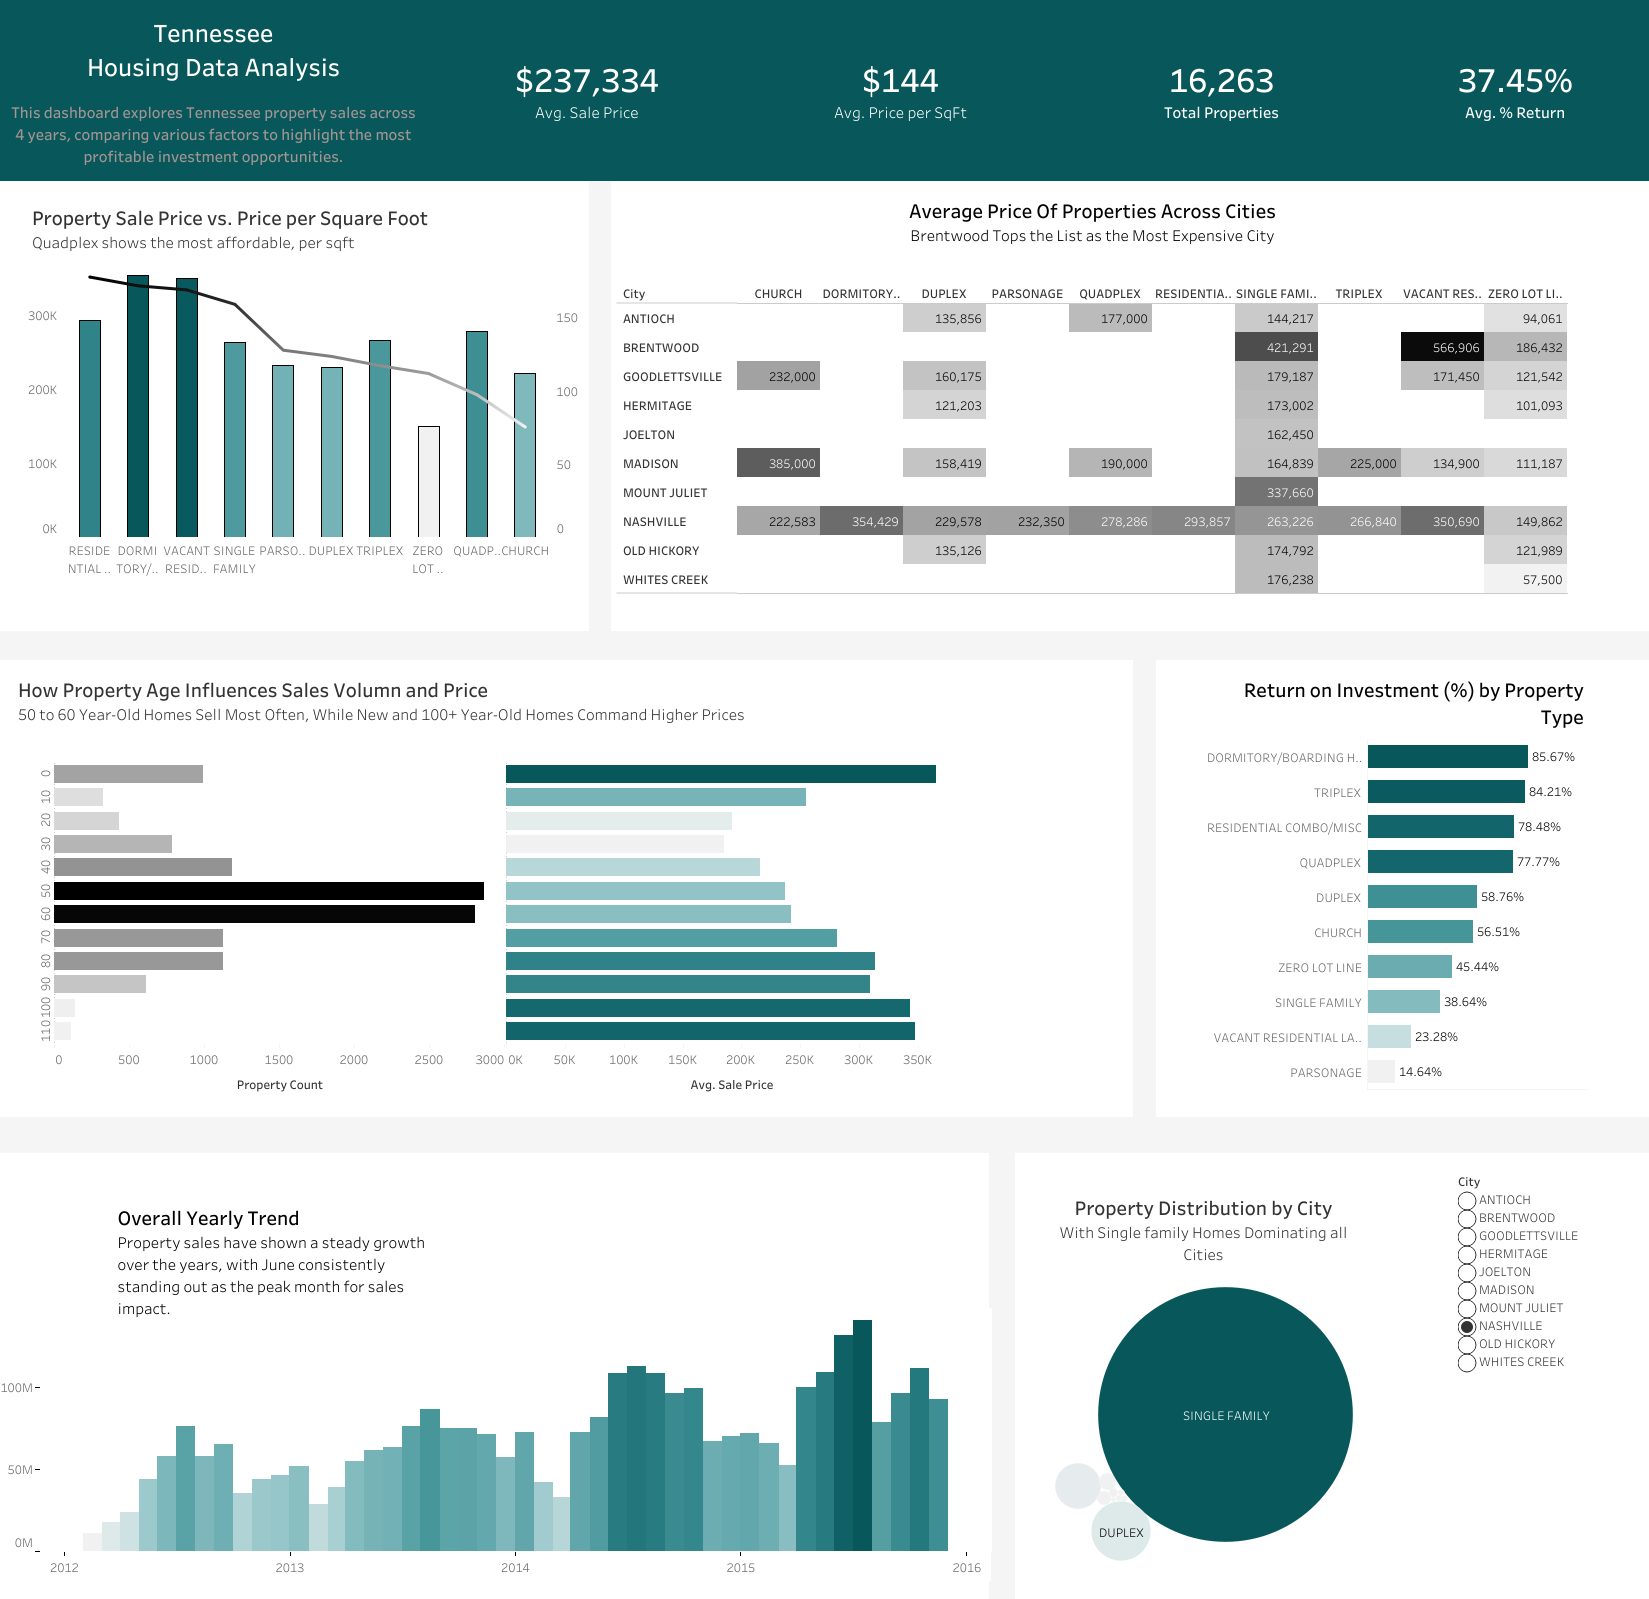

What the dashboard file says about the page in this screenshot:
{"tool":"tableau","page":{"name":"Tennessee Housing Data Analysis","canvas":[1000,1000],"units":"permille","ordinal":0},"visuals":[{"type":"text","box":[0,0,258.8,113.1]},{"type":"worksheet","title":"Sheet 10","mark":"Automatic","box":[258.8,0,384.9,113.1]},{"type":"worksheet","title":"Sheet 9","mark":"Automatic","box":[643.6,0,193.9,113.1]},{"type":"worksheet","title":"Sheet 11","mark":"Automatic","box":[837.6,0,162.4,113.1]},{"type":"title","box":[4.9,5,990.3,26.2]},{"type":"blank","box":[357,113.1,13.3,285]},{"type":"worksheet","title":"Average Price Of Properties Across Cities","mark":"Square","rows":["City"],"cols":["Land Use"],"box":[373.9,119.4,602.4,251.9]},{"type":"worksheet","title":"Property Sale Price vs. Price per Square Foot","mark":"Automatic","rows":["Sale Price","Price_per_SqFt"],"cols":["Land Use"],"box":[17,123.8,338.2,236.9]},{"type":"blank","box":[686.7,398.1,13.9,322.5]},{"type":"worksheet","title":"How Property Age Influences Sales Volumn and Price","mark":"Bar","rows":["Property Age (bin)"],"cols":["nhdc_df_houses_only_cleaned.csv_ABC2B269E5814F31BE5C74FBB430","Sale Price"],"box":[8.5,418.8,572.7,268.8]},{"type":"worksheet","title":"ROI (%)","mark":"Automatic","rows":["Land Use"],"cols":["Calculation_1055812677586268160"],"box":[731.5,418.8,230.9,270]},{"type":"filter","title":"Property Distribution by City","param":"[federated.12q3ktz17dsve31extktb1yelzef].[none:City:nk]","box":[881.2,729.5,98.2,158.1]},{"type":"worksheet","title":"Property Distribution by City","mark":"Circle","box":[638.8,742.5,223.6,240.6]},{"type":"text","box":[69.7,745,195.2,86.9]},{"type":"worksheet","title":"Sales","mark":"Bar","rows":["Sale Price"],"cols":["Sale Date"],"box":[0,807.9,600.6,180]}]}

Visuals, with their boxes on the dashboard's canvas, which has no fixed pixel size, in thousandths of its width and height (x1, y1, x2, y2). These are canvas units, not pixel positions in the 1649x1599 screenshot, which may show the page scaled, cropped or inside an application window:
text: [0,0,259,113]
"Sheet 10" worksheet: [259,0,644,113]
"Sheet 9" worksheet: [644,0,838,113]
"Sheet 11" worksheet: [838,0,1000,113]
title: [5,5,995,31]
blank: [357,113,370,398]
"Average Price Of Properties Across Cities" worksheet (Square marks): [374,119,976,371]
"Property Sale Price vs. Price per Square Foot" worksheet: [17,124,355,361]
blank: [687,398,701,721]
"How Property Age Influences Sales Volumn and Price" worksheet (Bar marks): [8,419,581,688]
"ROI (%)" worksheet: [732,419,962,689]
"Property Distribution by City" filter: [881,730,979,888]
"Property Distribution by City" worksheet (Circle marks): [639,742,862,983]
text: [70,745,265,832]
"Sales" worksheet (Bar marks): [0,808,601,988]
